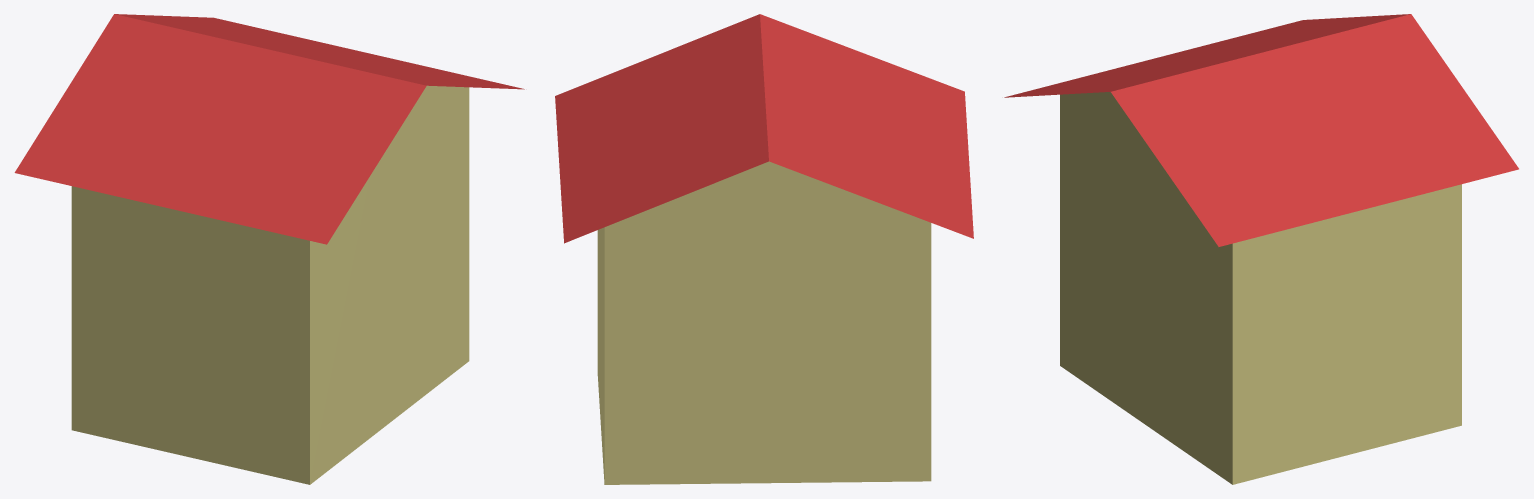
3 views of the same model, side by side, from view 1: azimuth 30°, elevation 25°; view 2: azimuth 150°, elevation 25°; view 3: azimuth 270°, elevation 25° (orthographic).
Bounding box in the file's own units: 9.61 × 9.25 × 6.77.
